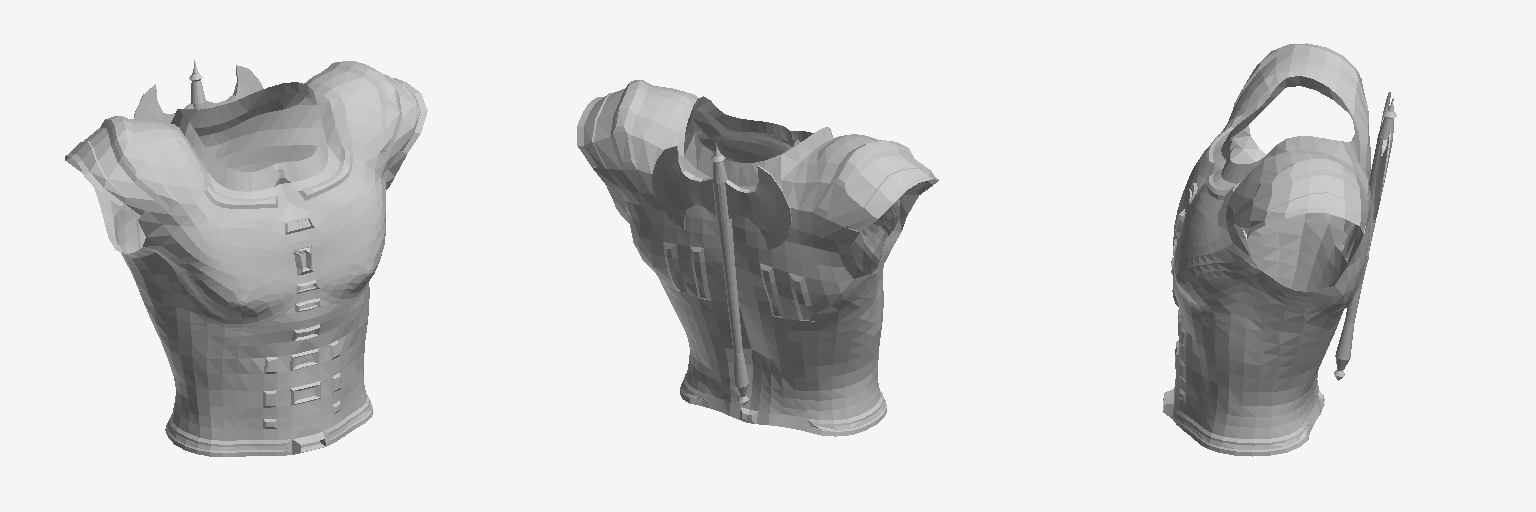
Rendered from armor 5.obj.
3 views of the same model, side by side, from view 1: azimuth 30°, elevation 25°; view 2: azimuth 150°, elevation 25°; view 3: azimuth 270°, elevation 25° (orthographic).
Parts seen in each view (by area): view 1: sd; view 2: sd; view 3: sd.
Part boxes in pixels (bbox=[...]): sd: bbox=[65, 60, 427, 456]; sd: bbox=[577, 80, 938, 436]; sd: bbox=[1163, 43, 1396, 456].
Size of the model in its own units: 62.17 by 55.06 by 37.43.